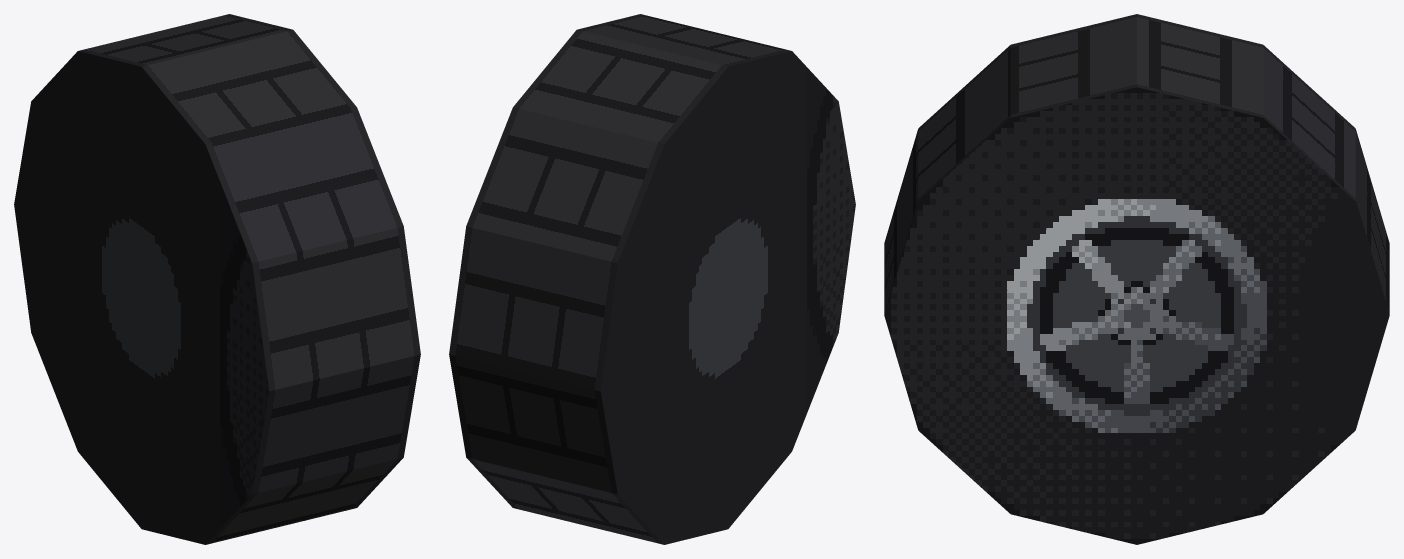
File: wheel_dish.glb
3 views of the same model, side by side, from view 1: azimuth 30°, elevation 25°; view 2: azimuth 150°, elevation 25°; view 3: azimuth 270°, elevation 25° (orthographic).
Visible parts, largest first — view 1: wheel_dish; view 2: wheel_dish; view 3: wheel_dish.
Part boxes in pixels (bbox=[...]): wheel_dish: bbox=[14, 14, 420, 544]; wheel_dish: bbox=[449, 14, 855, 544]; wheel_dish: bbox=[884, 14, 1389, 544].
Bounding box in the file's own units: 0.285 × 0.8308 × 0.8308.
Materials: 1 (1 with a texture image).
